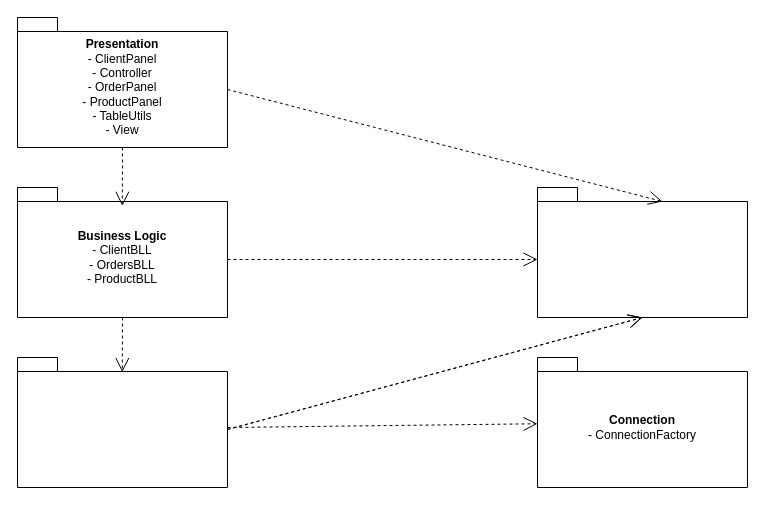
The diagram is 765 pixels wide and 505 high, and some of its shapes have lost their labels. The shapes that lost their labels are listed below. From the top down, each one's centre as x and y in pixels, then its label:
At point (642, 252): "Model - Client - Product - Orders - Bill".
At point (122, 422): "Data Access - AbstractDAO - BillDAO - ClientDAO - OrdersDAO - ProductDAO".
